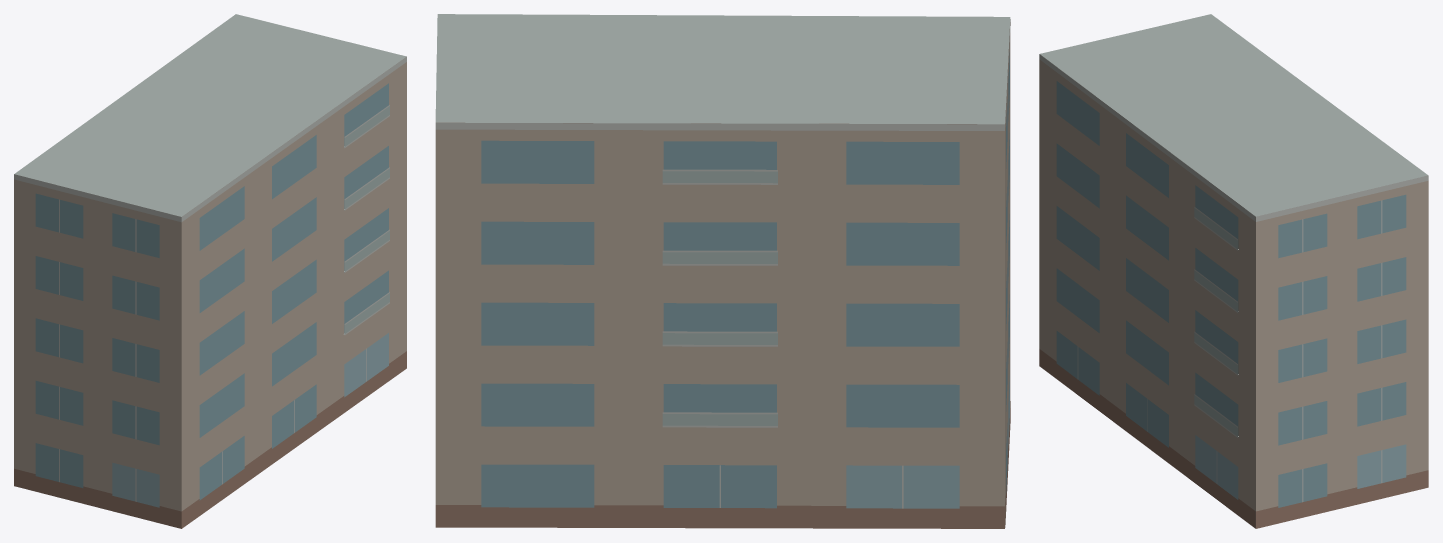
File: survey-upis-32696172.glb
The picture shows the model from 3 angles, left to right: view 1: azimuth 30°, elevation 25°; view 2: azimuth 150°, elevation 25°; view 3: azimuth 270°, elevation 25°; orthographic projection. The views are drawn at different scales.
Parts seen in each view (by area): view 1: survey-upis-32696172.tmp; view 2: survey-upis-32696172.tmp; view 3: survey-upis-32696172.tmp.
Boxes of the visible parts, left/top/right/bottom form: survey-upis-32696172.tmp: left=14, top=14, right=406, bottom=528; survey-upis-32696172.tmp: left=435, top=14, right=1010, bottom=528; survey-upis-32696172.tmp: left=1039, top=14, right=1428, bottom=528.
Bounding box in the file's own units: 19.93 × 14.3 × 16.16.
